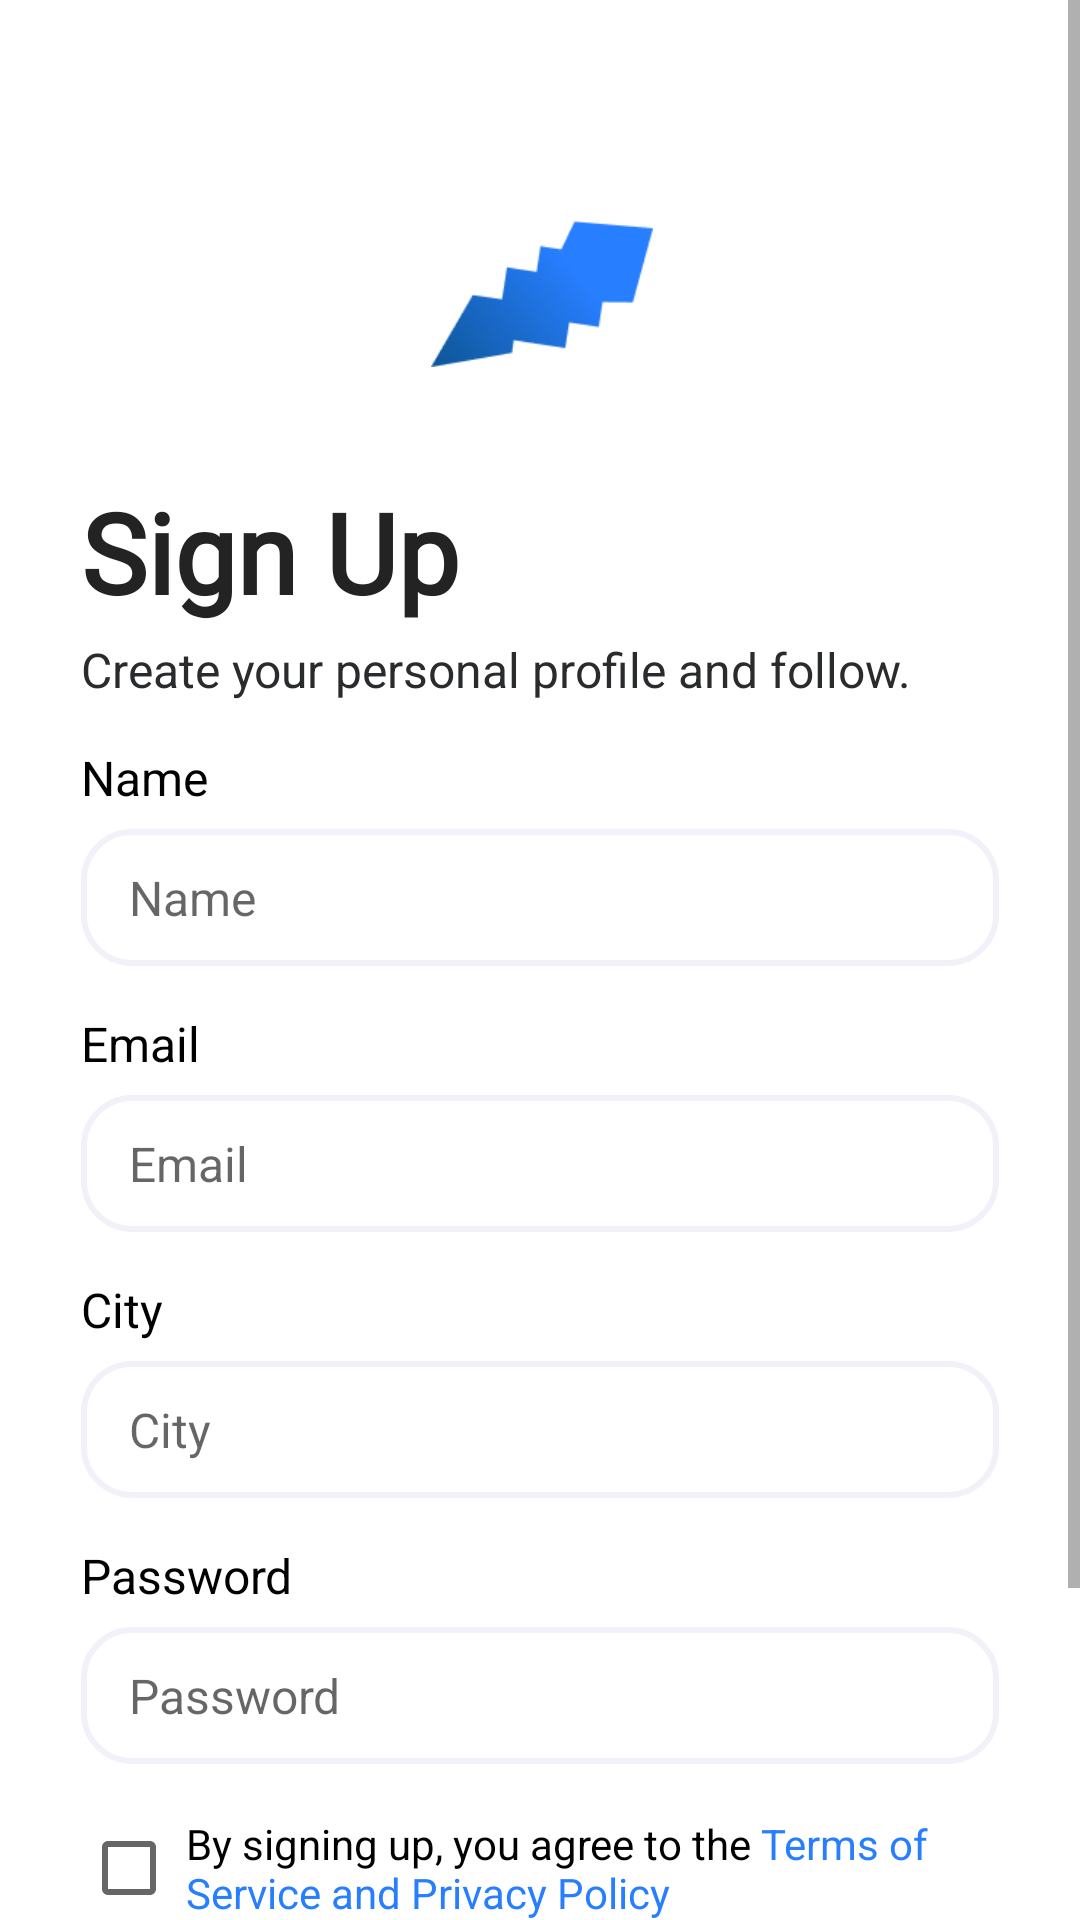

Named icons in this screenshot (1080px×1920px) and their centers, (x=x, y=y):
union: (x=542, y=294)
